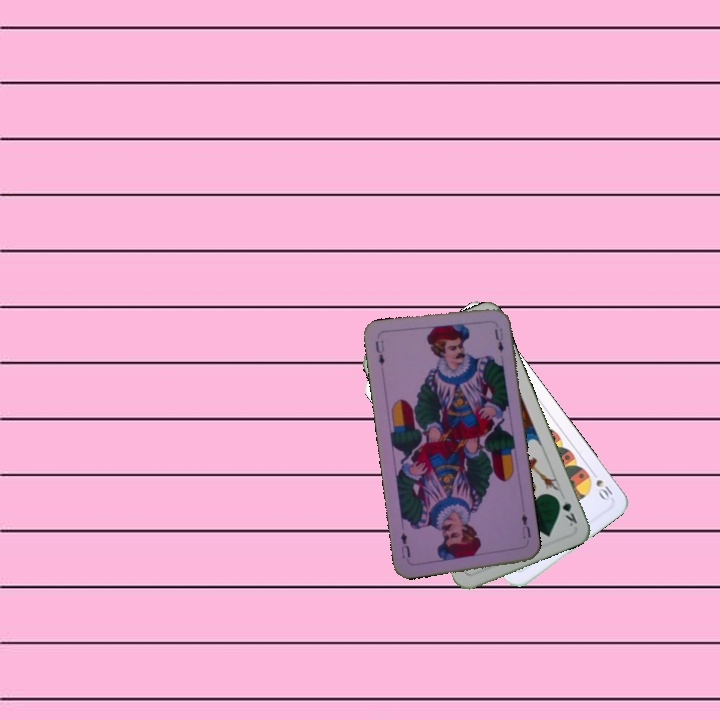EU: (517, 509, 533, 541), (371, 336, 387, 368)
GK: (552, 493, 580, 529)
S10: (592, 475, 616, 504)
